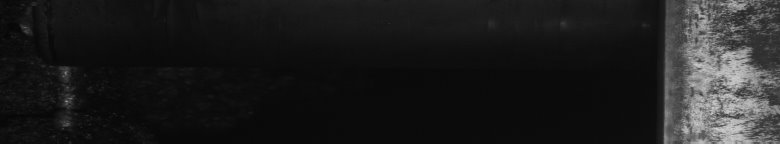kb: (682, 4, 776, 136)
